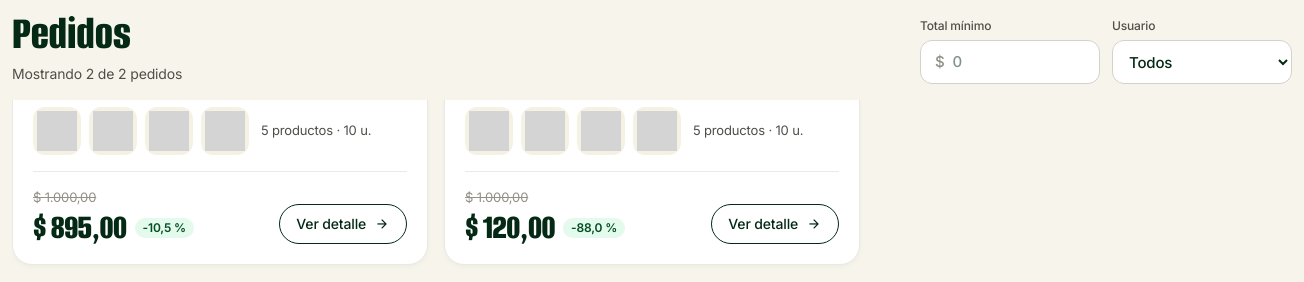
Scenario: OrdersPageComponent › filters by minimum total and by user
Type "500" into the number field labelled "Total mínimo $". click: x=1019, y=62
box: left=952, top=52, right=1085, bottom=72
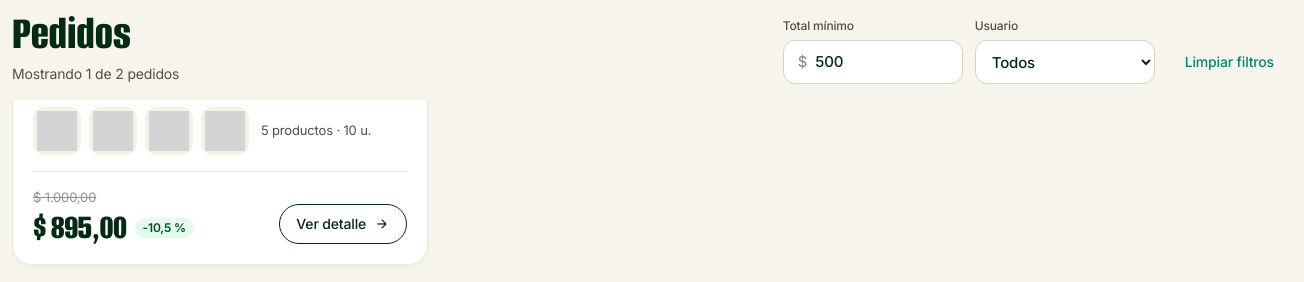
Check: the text "Mostrando 1 de 2 pedidos" is shown, box left=12, top=64, right=179, bottom=84
Clear the number field labelled "Total mínimo $". click: x=882, y=62
box: left=815, top=52, right=948, bottom=72
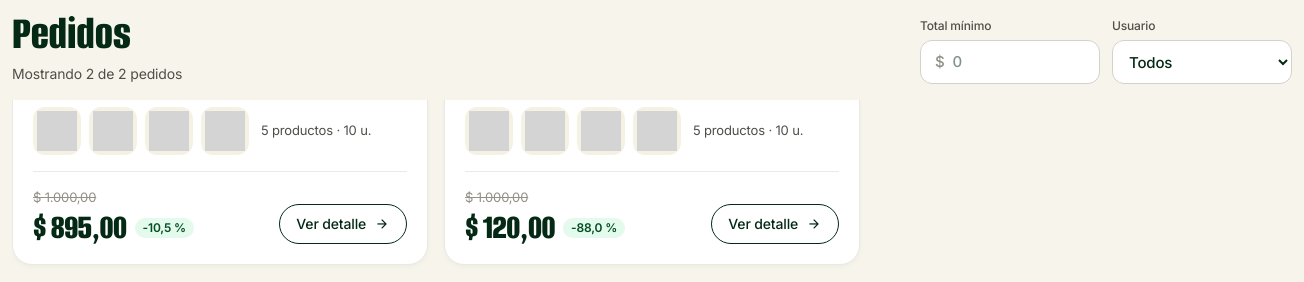
Select "Usuario 5" in the dropdown labelled "Usuario". click: x=1202, y=62
box: left=1112, top=40, right=1292, bottom=84
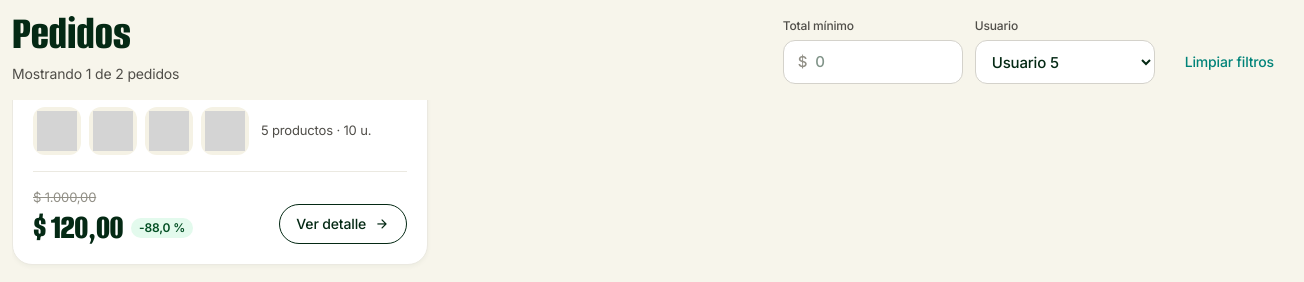
Check: the text "Pedido #2" is shown, box left=33, top=66, right=109, bottom=90
Check: the text "Mostrando 1 de 2 pedidos" is shown, box left=12, top=64, right=179, bottom=84
